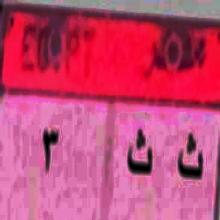3: (41, 122, 60, 185)
thaa: (177, 129, 207, 203), (124, 124, 156, 190)
